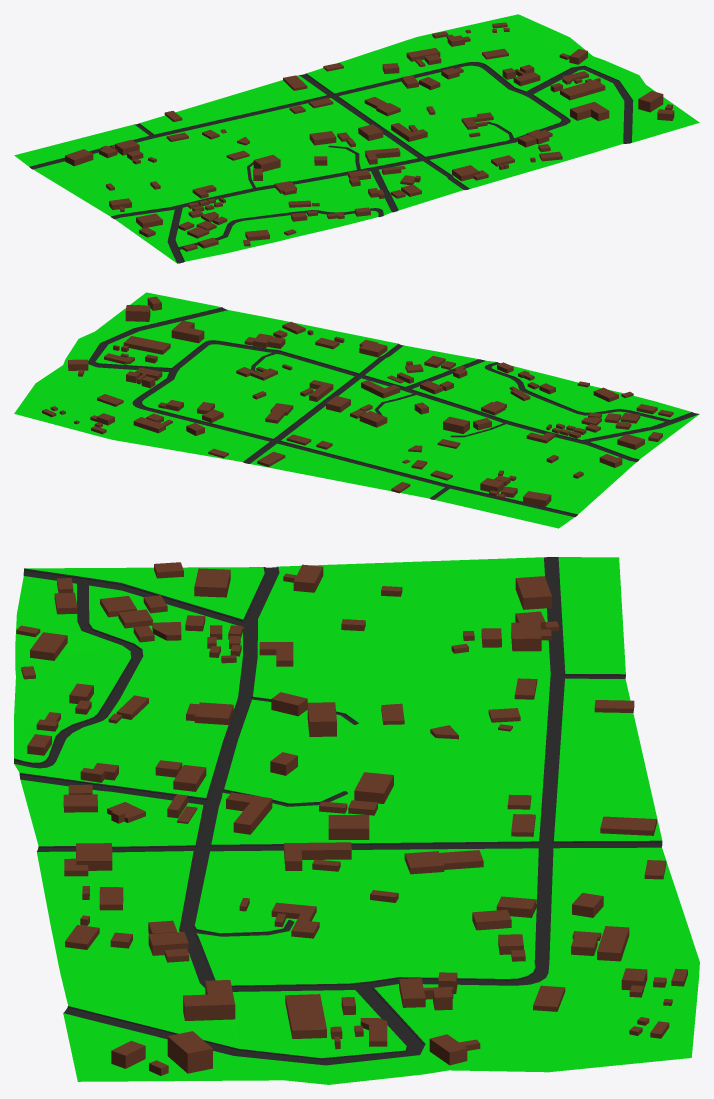
Rendered from Land01.fbx.
3 renders of one model, top to bottom at view 1: azimuth 30°, elevation 25°; view 2: azimuth 150°, elevation 25°; view 3: azimuth 270°, elevation 25°, orthographic. The views are drawn at different scales.
Visible parts, largest first — view 1: Land, Cube.001, Cube.002, Cube.069; view 2: Land, Cube.002, Cube.001, Cube.069, Cube; view 3: Land, Cube.001, Cube.002, Cube.008, Cube.069, Cube.010, Cube, Cube.025, Cube.044, Laundromat, Cube.037, Cube.009 (+9 smaller).
Boxes of the visible parts, <box> form: Land: <box>14,14,699,263</box>; Cube.001: <box>570,102,609,121</box>; Cube.002: <box>560,79,605,100</box>; Cube.069: <box>638,90,663,112</box>; Land: <box>14,292,699,528</box>; Cube.002: <box>123,336,170,354</box>; Cube.001: <box>171,320,204,343</box>; Cube.069: <box>125,305,150,321</box>; Cube: <box>361,380,400,398</box>; Land: <box>14,557,699,1084</box>; Cube.001: <box>183,980,235,1020</box>; Cube.002: <box>285,994,326,1038</box>; Cube.008: <box>404,850,483,874</box>; Cube.069: <box>167,1031,212,1073</box>; Cube.010: <box>284,842,351,870</box>; Cube: <box>226,792,272,834</box>; Cube.025: <box>515,576,551,609</box>; Cube.044: <box>271,902,319,938</box>; Laundromat: <box>328,815,369,839</box>; Cube.037: <box>307,702,336,736</box>; Cube.009: <box>354,772,393,803</box>.
Size of the model in its own units: 31675 by 591 by 17395.
